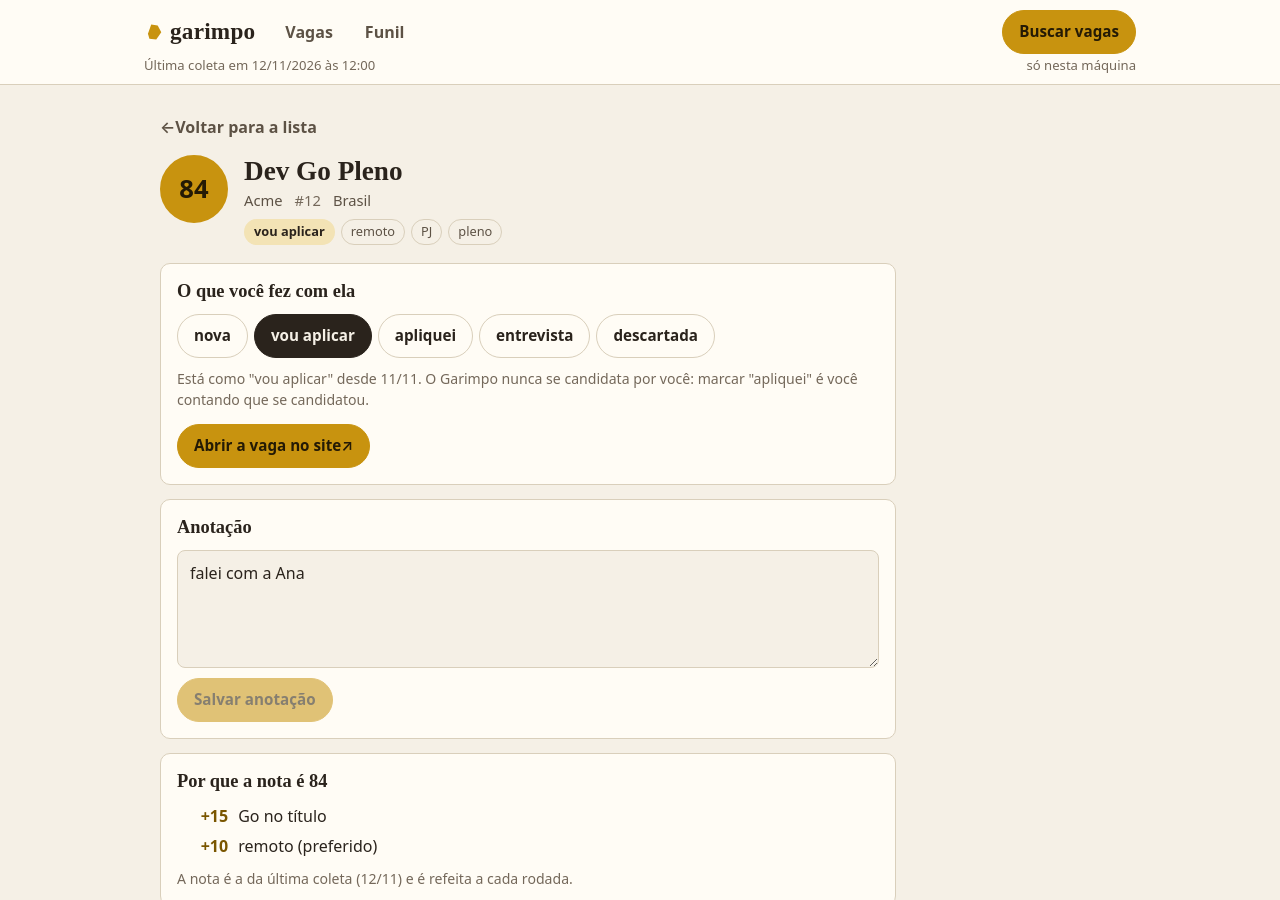
Test: the posting › keeps what was typed when saving fails
Type " e mais" into the text box labelled "Anotação". click: (528, 609)
box: [177,550,879,668]
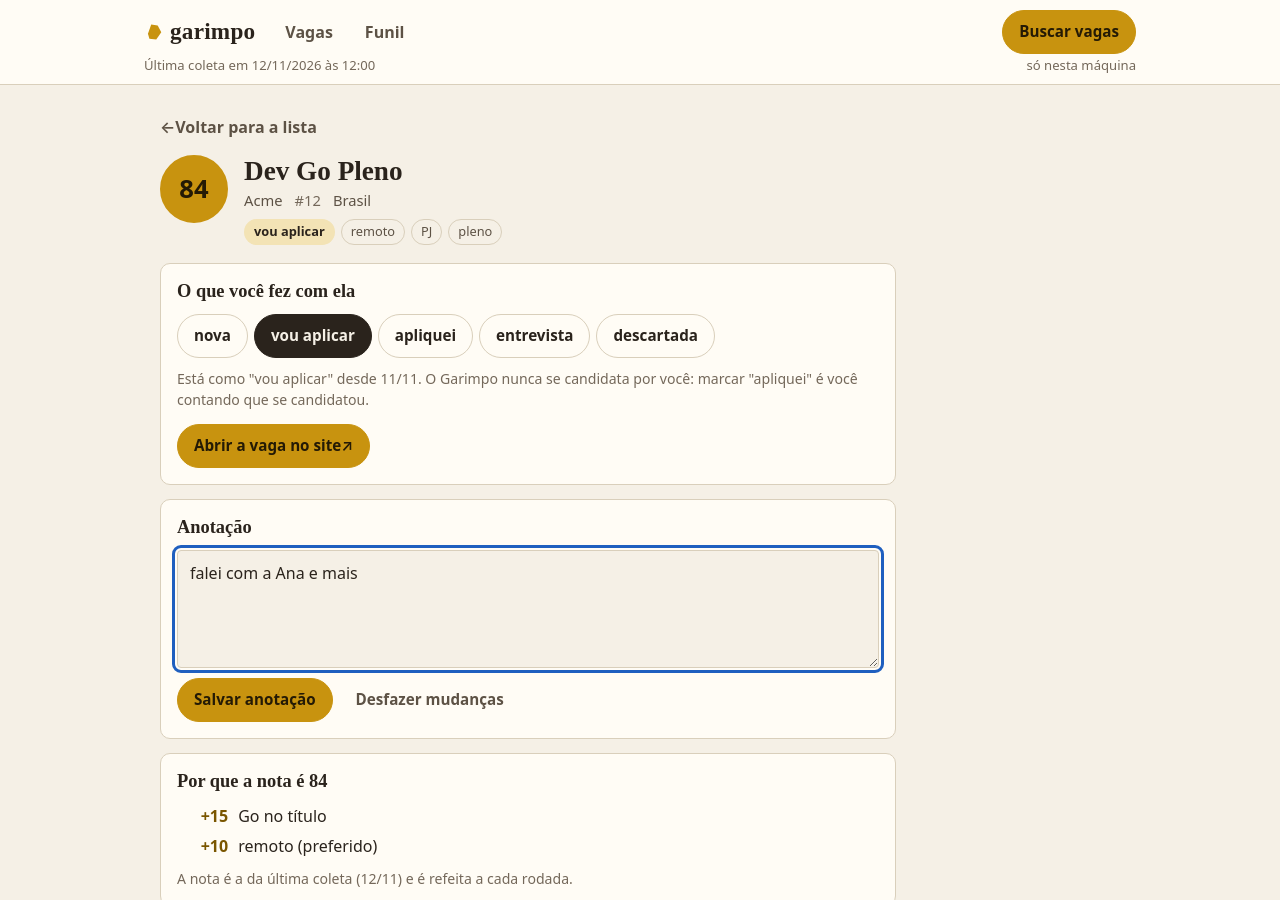
Click the button "Salvar anotação". click: (255, 700)
box: [177,678,332,722]
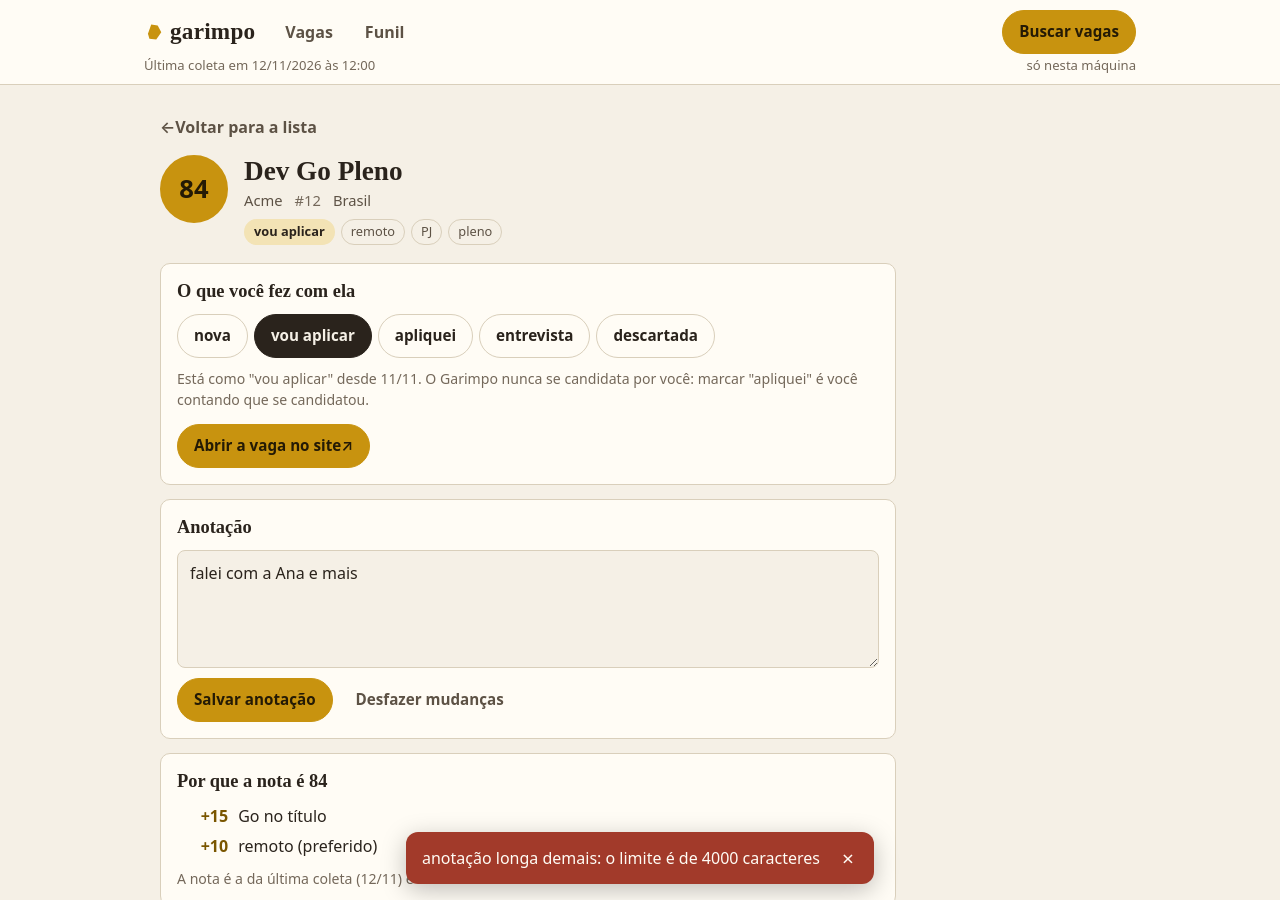
Check: the text box labelled "Anotação" holds "falei com a Ana e mais", box [177,550,879,668]
Check: the text "anotação longa demais: o limite é de 4000 caracteres" is shown, box [422,846,820,870]
